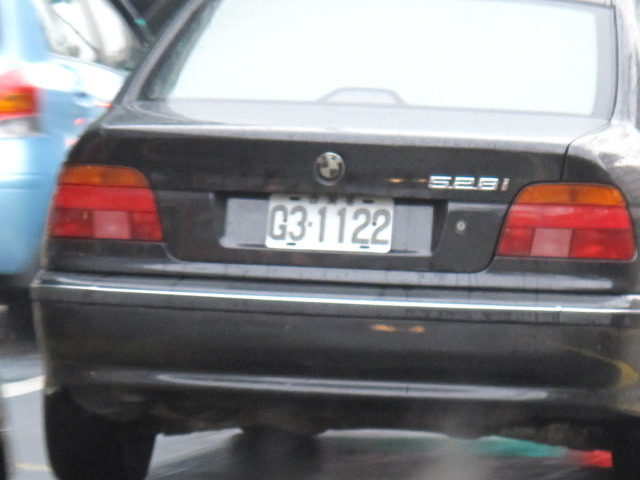plate: (266, 190, 396, 254)
